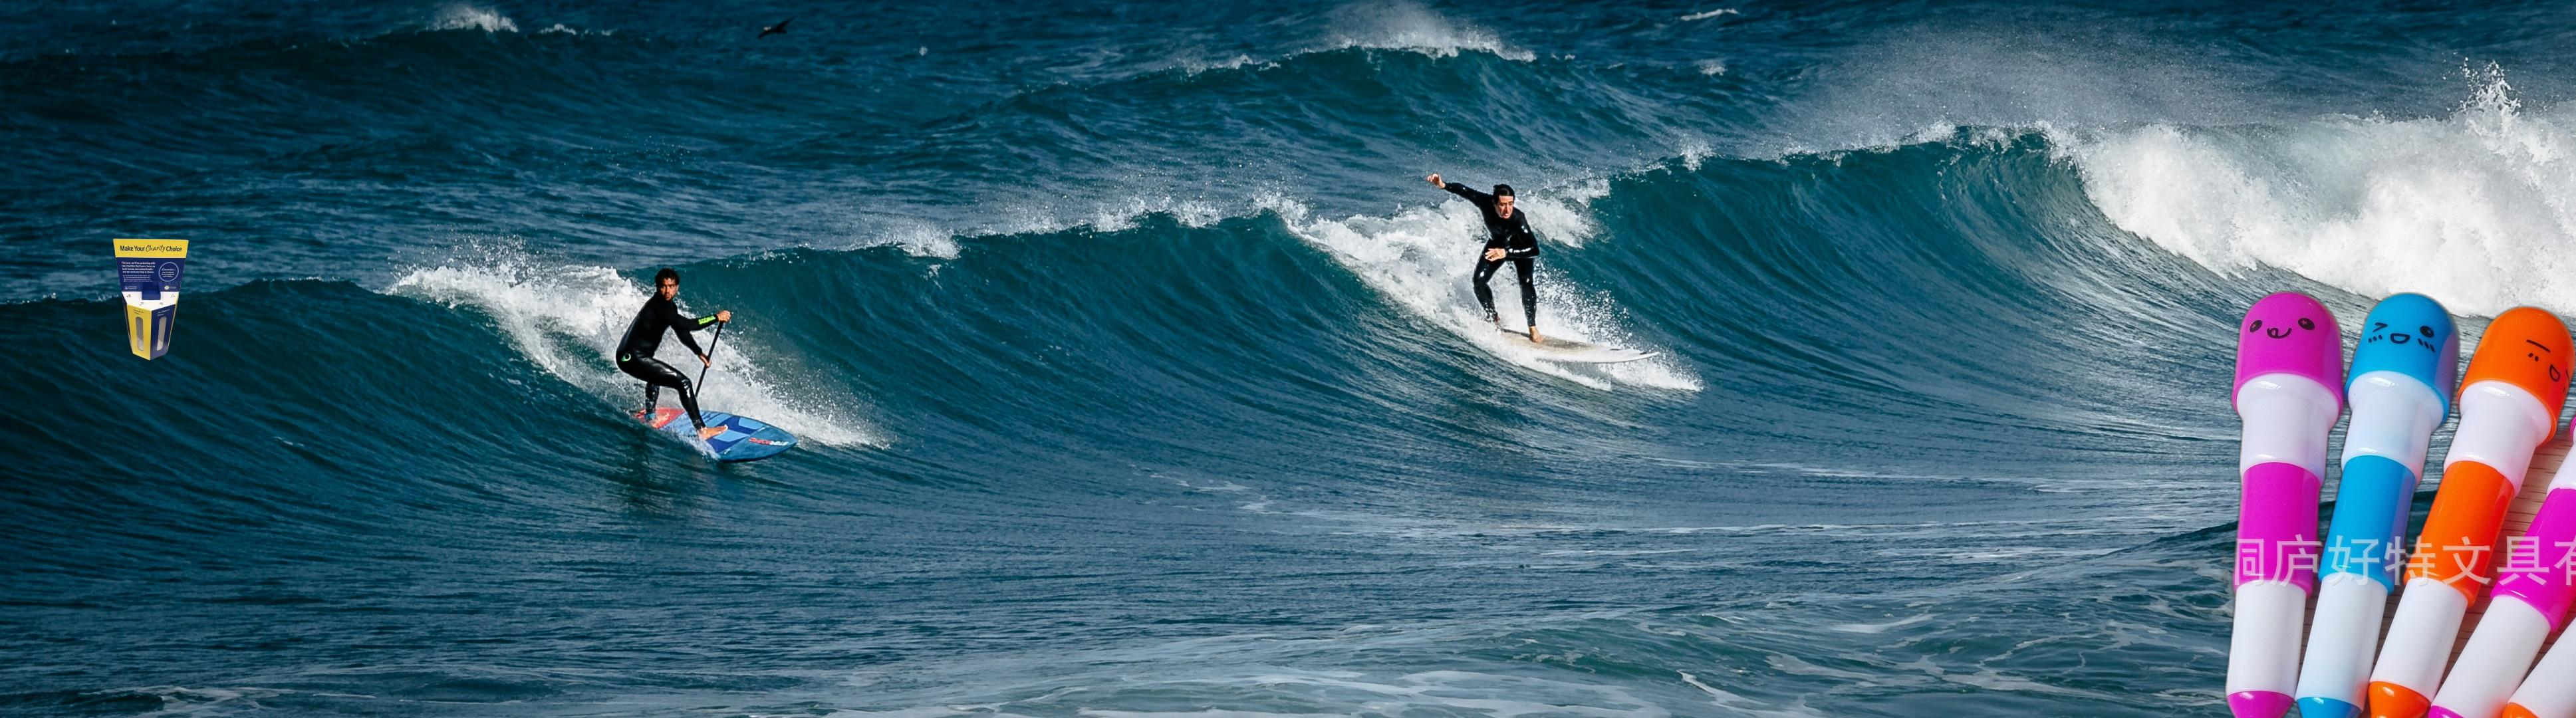penholder: (2215, 286, 2576, 718)
trashbox-cardboard: (112, 237, 191, 368)
